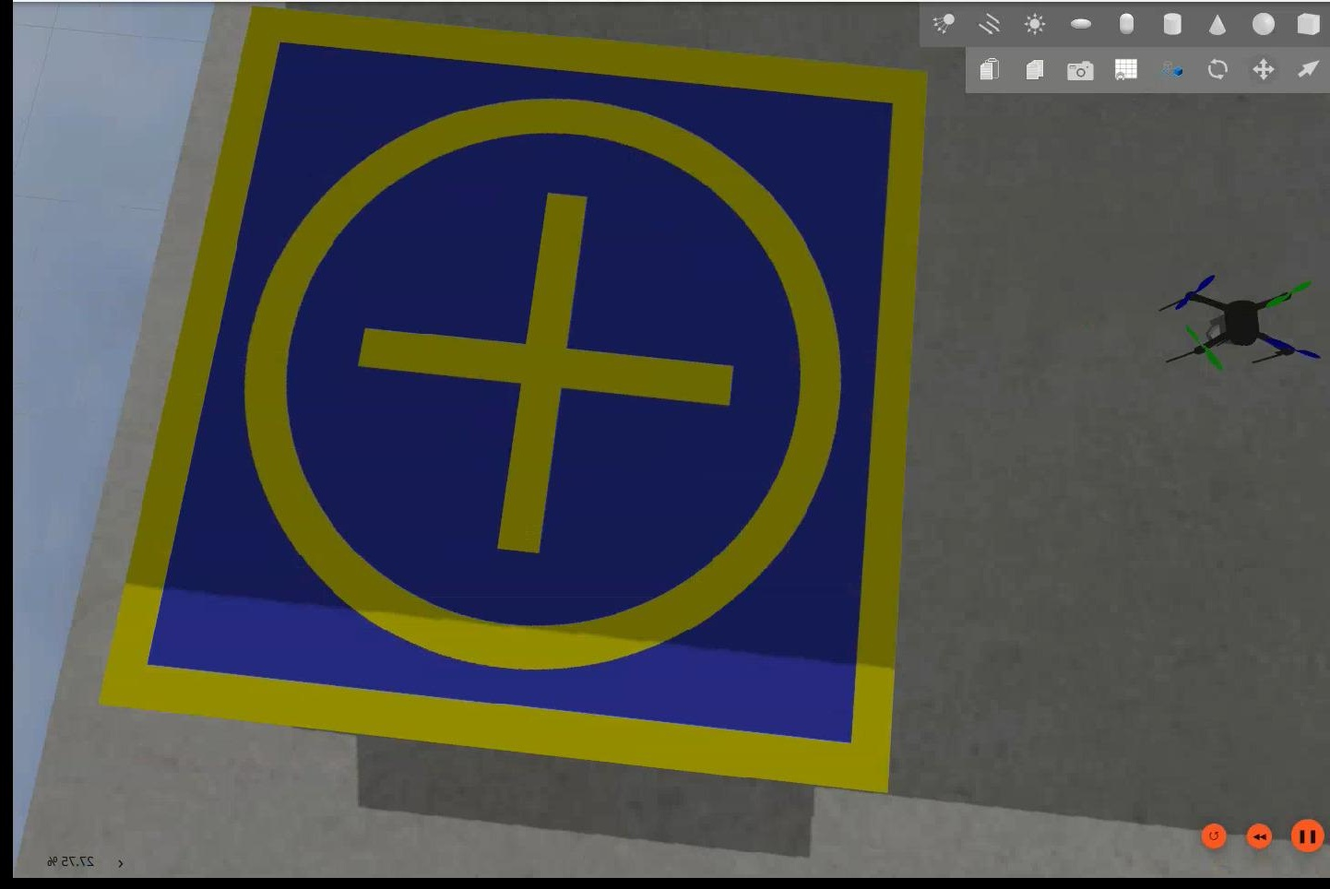small_base: (100, 4, 929, 793)
